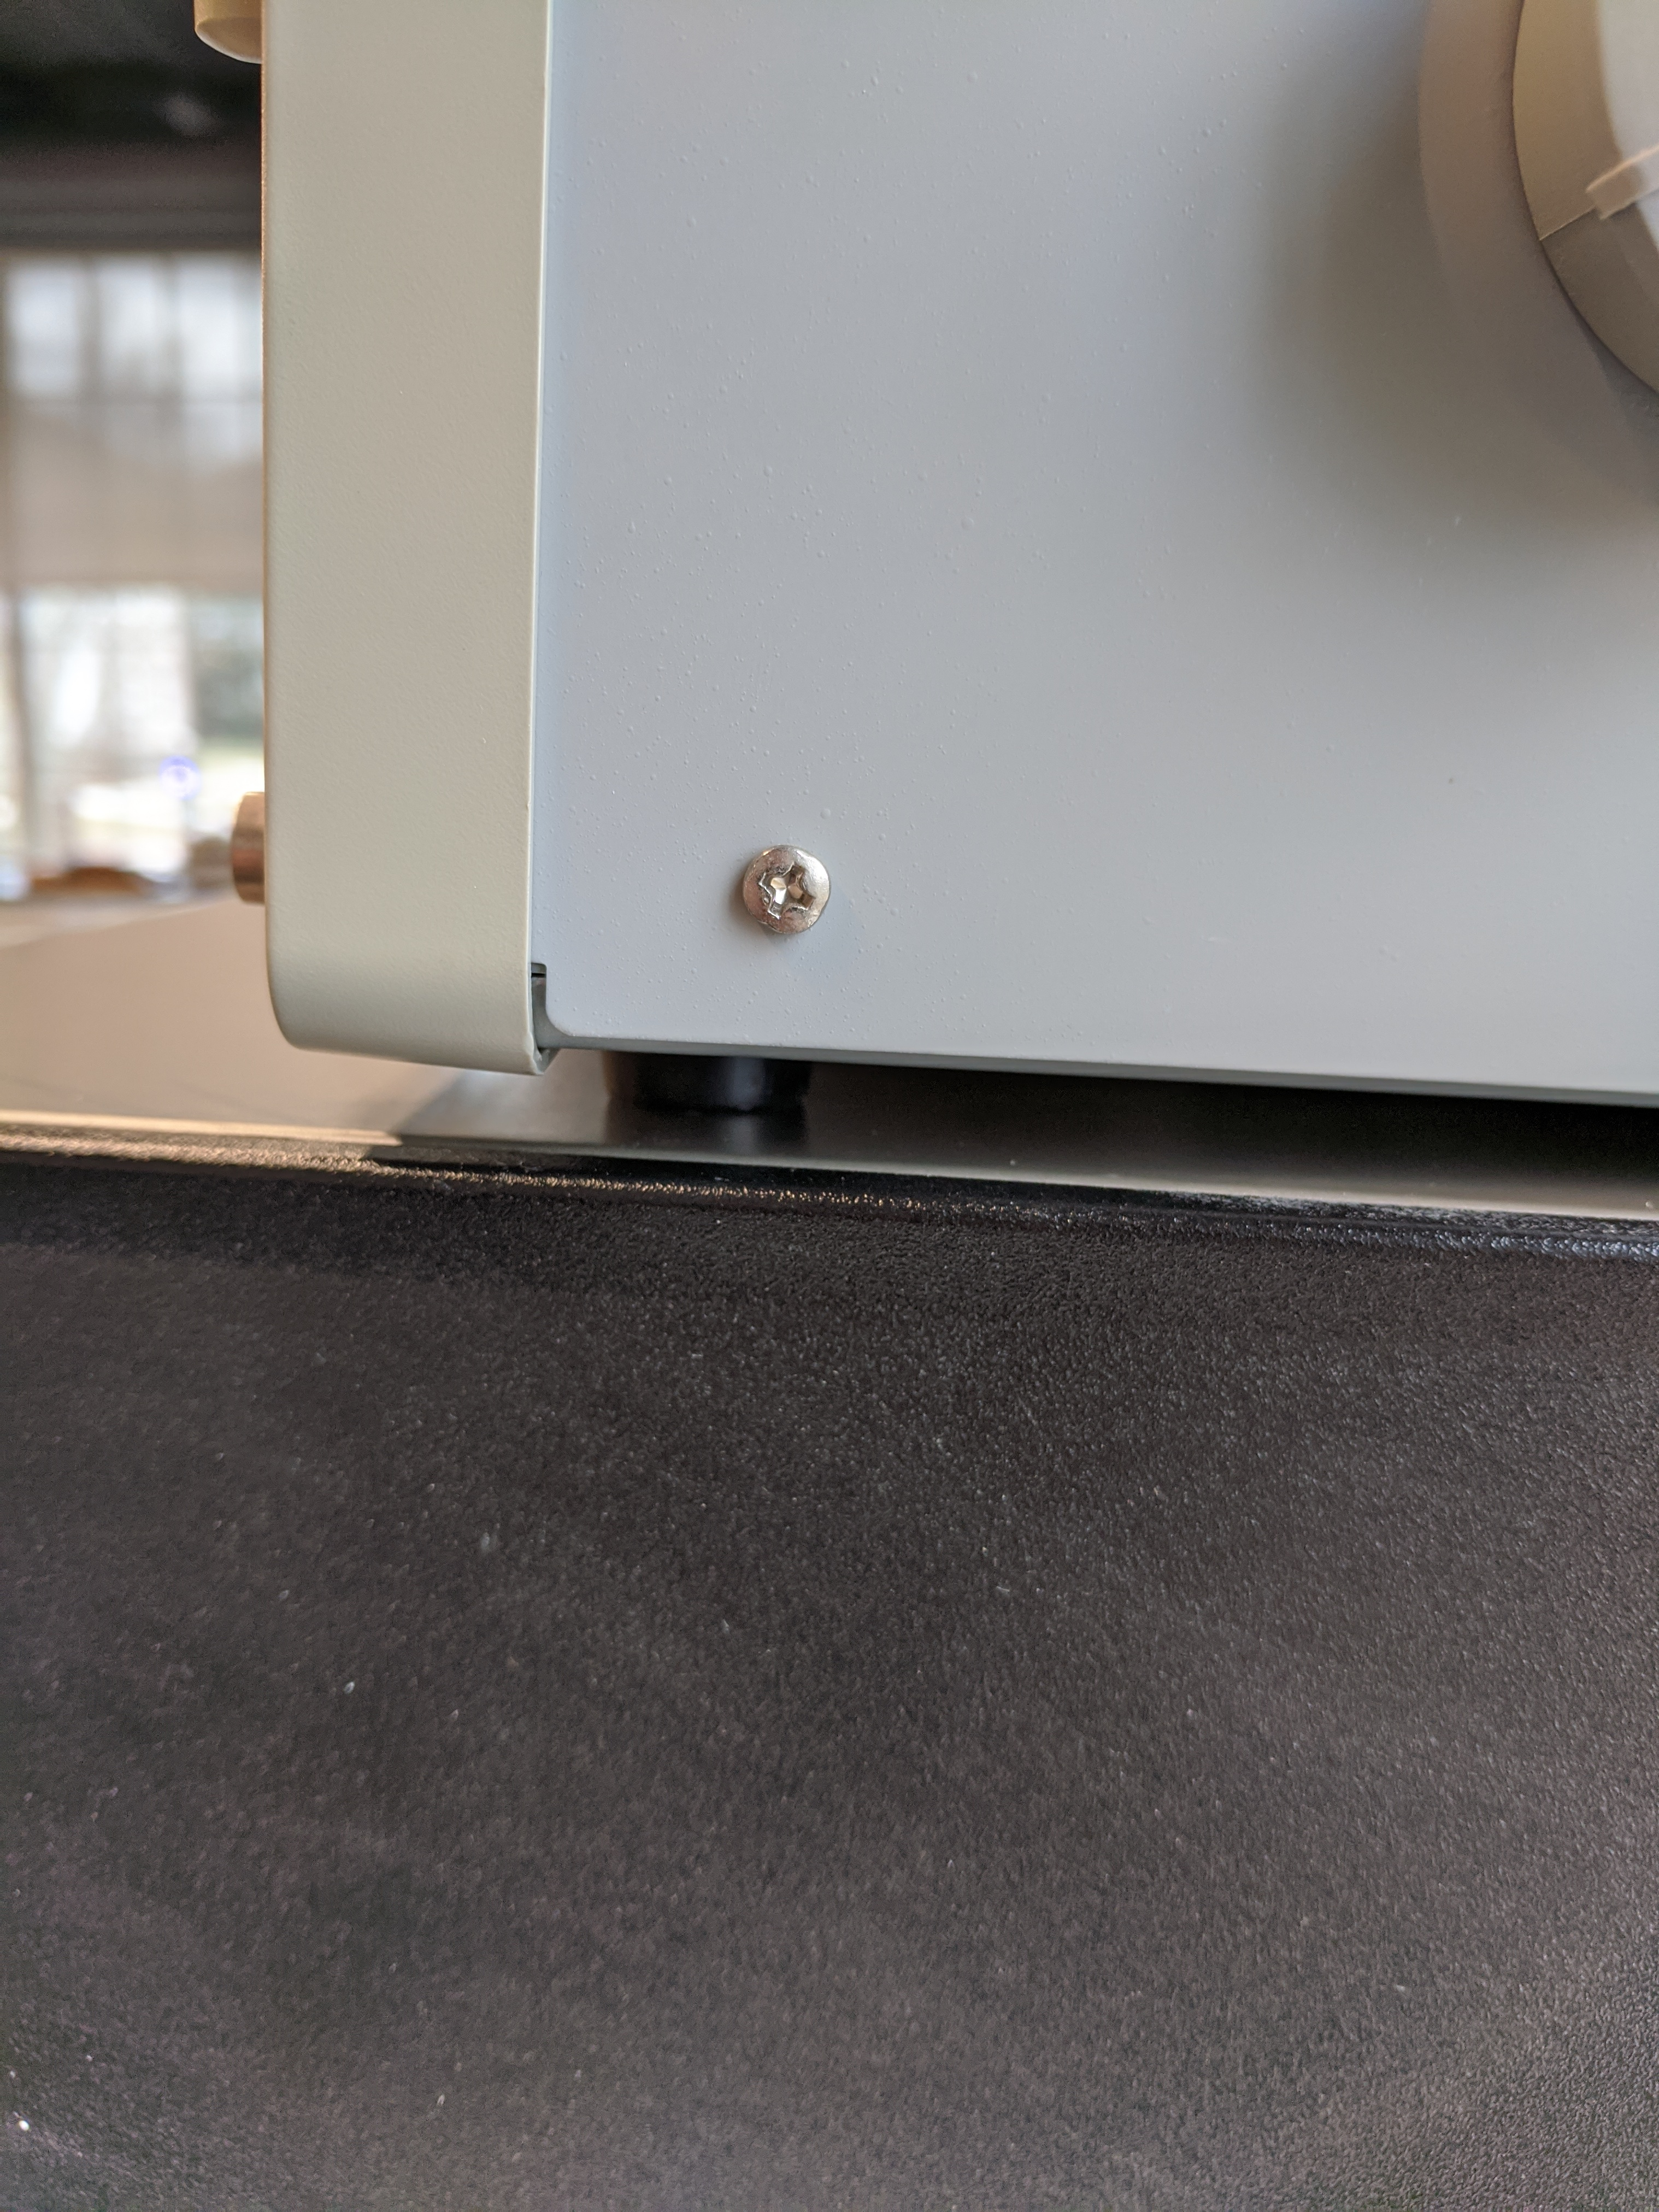cross_recessed_screw: (727, 831, 829, 948)
